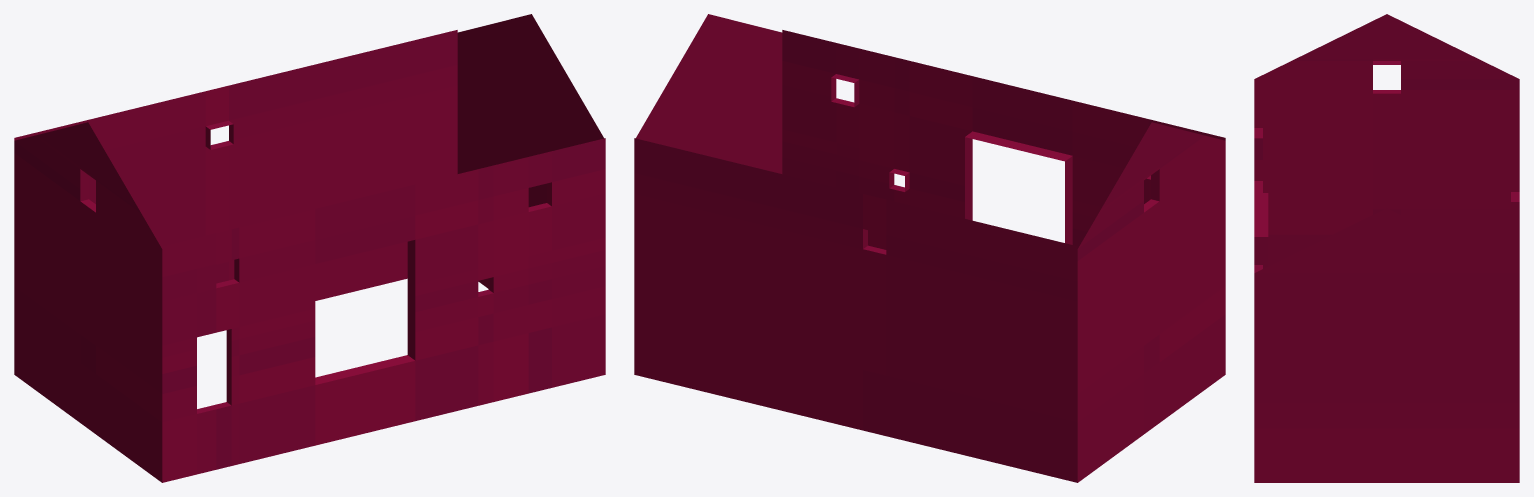
The model's file is SM_Bld_006_Masonry.glb.
3 views of the same model, side by side, from view 1: azimuth 30°, elevation 25°; view 2: azimuth 150°, elevation 25°; view 3: azimuth 270°, elevation 25° (orthographic). The views are drawn at different scales.
Visible parts, largest first — view 1: SM_Bld_006_Masonry; view 2: SM_Bld_006_Masonry; view 3: SM_Bld_006_Masonry.
Boxes of the visible parts, bbox=[...] form: SM_Bld_006_Masonry: bbox=[14, 14, 605, 482]; SM_Bld_006_Masonry: bbox=[634, 14, 1225, 482]; SM_Bld_006_Masonry: bbox=[1254, 14, 1519, 482].
Bounding box in the file's own units: 11.51 × 7.6 × 6.65.
